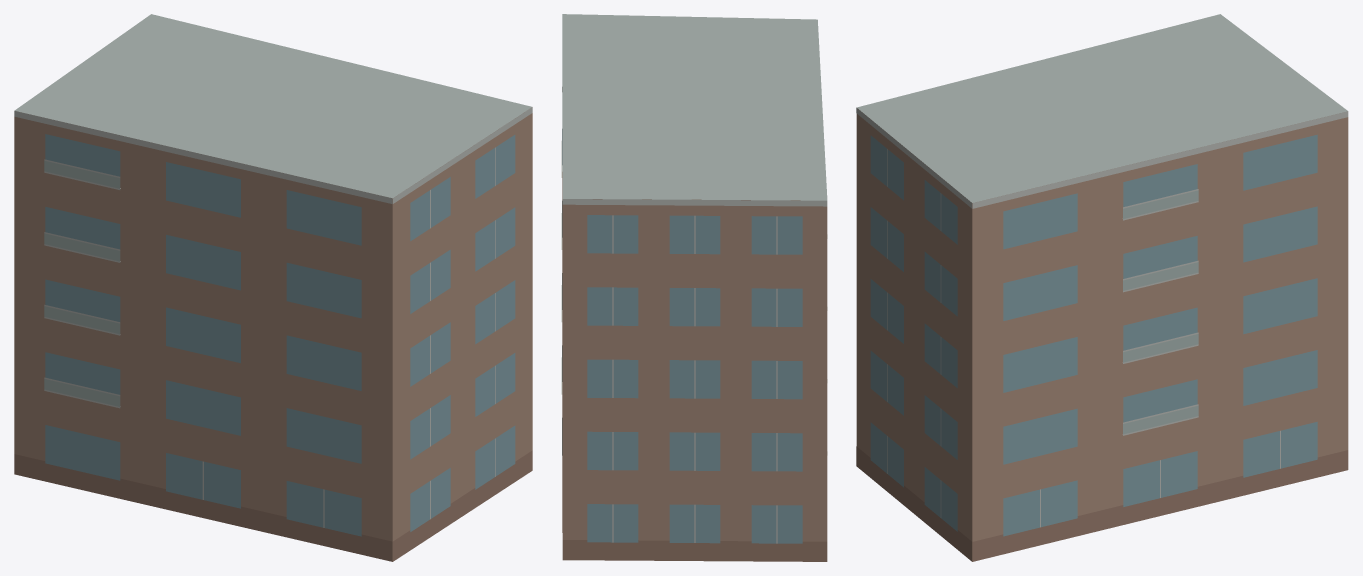
Rendered from survey-upis-32574511.glb.
3 views of the same model, side by side, from view 1: azimuth 30°, elevation 25°; view 2: azimuth 150°, elevation 25°; view 3: azimuth 270°, elevation 25° (orthographic).
Parts seen in each view (by area): view 1: survey-upis-32574511.tmp; view 2: survey-upis-32574511.tmp; view 3: survey-upis-32574511.tmp.
Part boxes in pixels (<box>): survey-upis-32574511.tmp: <box>14,14,532,561</box>; survey-upis-32574511.tmp: <box>561,14,827,561</box>; survey-upis-32574511.tmp: <box>856,14,1348,561</box>.
Bounding box in the file's own units: 16.96 × 15 × 18.65.
